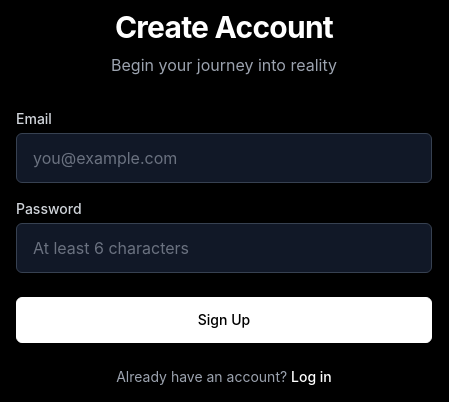
Test: SignupPage › disables submit button while loading
Type "test@example.com" into the field labelled "Email" at (224, 158), box [16,133,432,183]
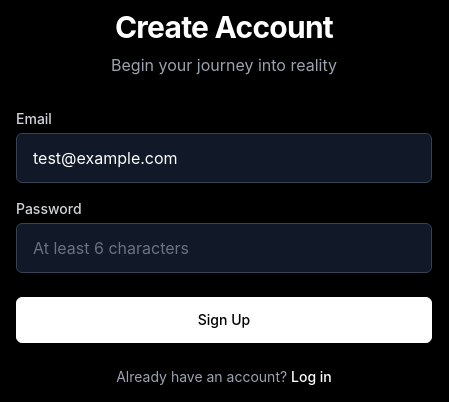
Type "password123" into the password field labelled "Password" at (224, 248), box [16,223,432,273]
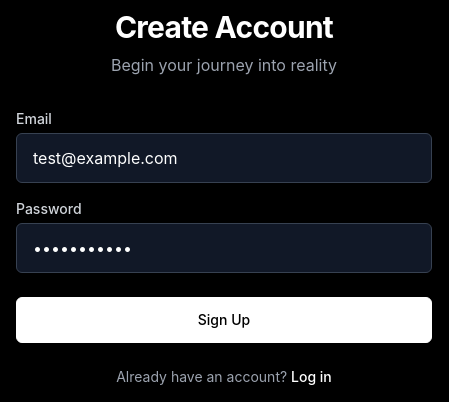
Click the button "Sign Up" at (224, 320), box [16,297,432,343]
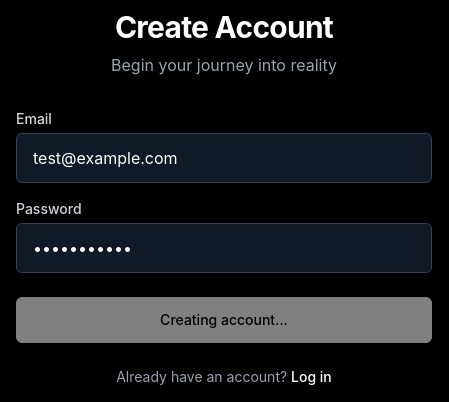
Check: the button "Creating account..." is disabled, box [16,297,432,343]
